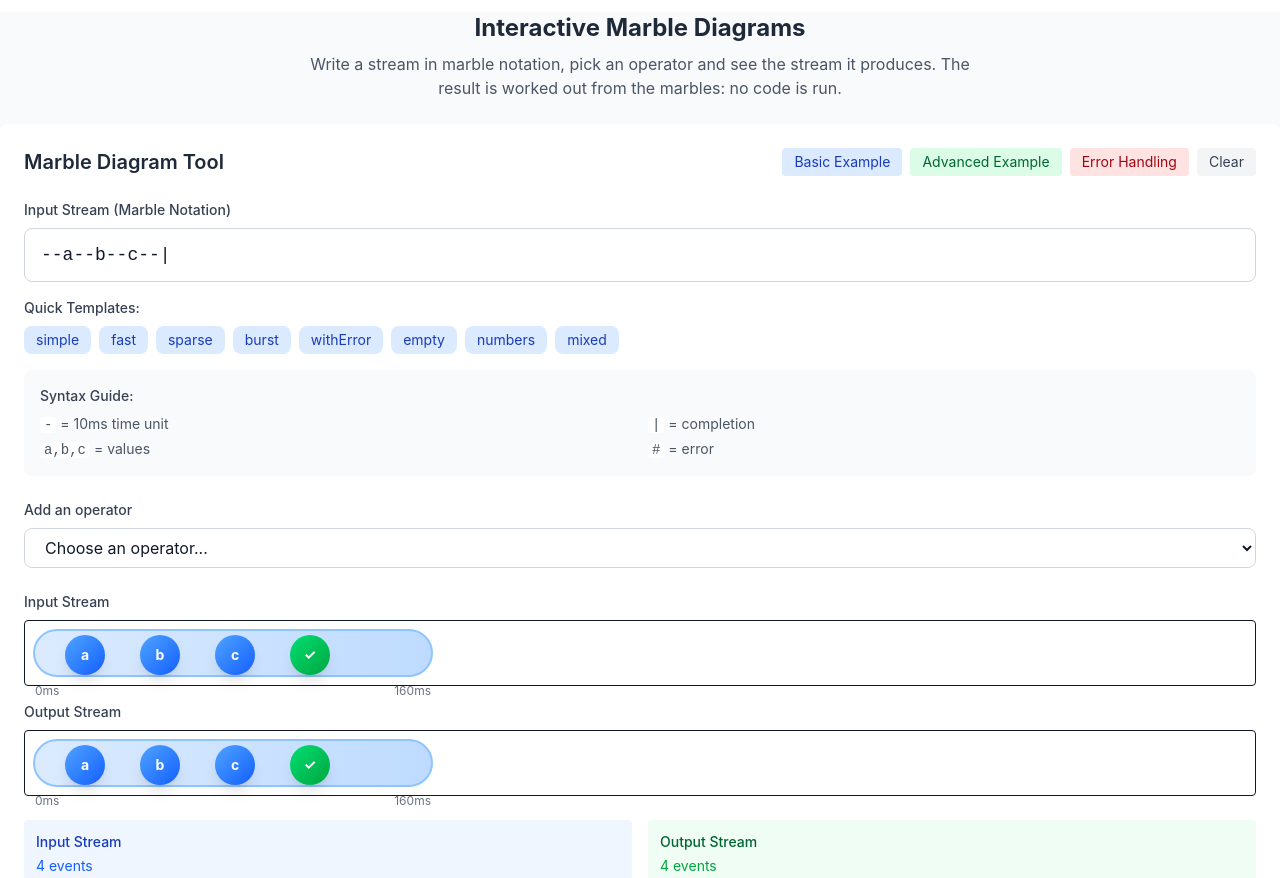
MarbleDiagramTool › an example updates the text box, the chain and the diagram
Click the button "Advanced Example". click: {"x": 986, "y": 162}
box: [910,148,1062,176]
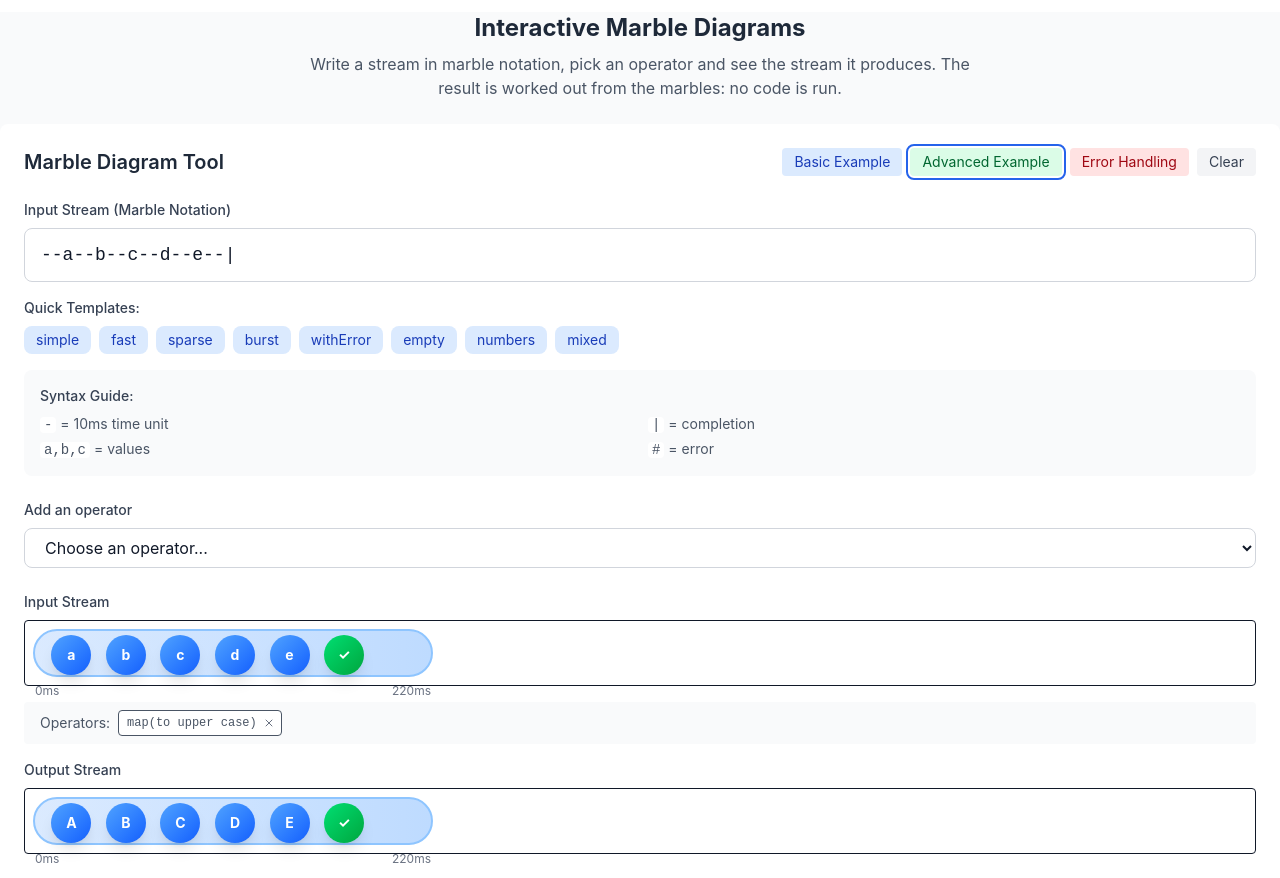
Check: the field labelled "Input Stream (Marble Notation)" holds "--a--b--c--d--e--|", box [24,228,1256,282]
Check: the list named "operators" reads "map(to upper case)", box [127,716,257,730]
